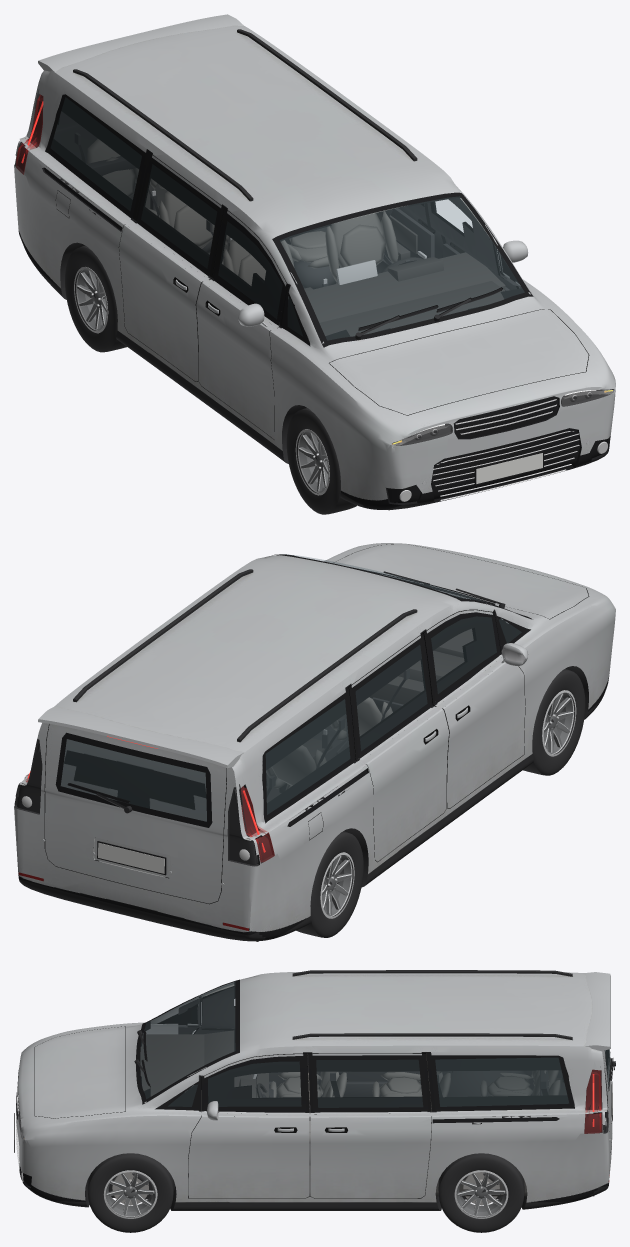
File: family-minivan.glb
3 renders of one model, top to bottom at view 1: azimuth 30°, elevation 25°; view 2: azimuth 150°, elevation 25°; view 3: azimuth 270°, elevation 25°, orthographic. The views are drawn at different scales.
Parts seen in each view (by area): view 1: body, glass_windshield, bonnet_panel, sliding_door_R_panel, interior, door_FR_panel, seats, glass_side_r_R, sliding_door_R_glass_side_m_R, wheel_FR_mesh, door_FR_glass_side_f_R, wheel_RR_mesh (+9 smaller); view 2: body, tailgate_panel, sliding_door_R_panel, door_FR_panel, tailgate_glass_rear, bonnet_panel, glass_side_r_R, sliding_door_R_glass_side_m_R, door_FR_glass_side_f_R, wheel_RR_mesh, wheel_FR_mesh, tailgate_spoiler (+8 smaller); view 3: body, sliding_door_L_panel, door_FL_panel, glass_windshield, glass_side_r_L, bonnet_panel, sliding_door_L_glass_side_m_L, wheel_FL_mesh, wheel_RL_mesh, door_FL_glass_side_f_L, interior, seats (+8 smaller).
Part boxes in pixels (x1,y1,x2,y2): body: (14, 25, 615, 510); glass_windshield: (272, 192, 533, 347); bonnet_panel: (329, 309, 588, 415); sliding_door_R_panel: (119, 153, 224, 381); interior: (87, 156, 505, 336); door_FR_panel: (196, 208, 288, 439); seats: (75, 133, 398, 289); glass_side_r_R: (45, 94, 146, 218); sliding_door_R_glass_side_m_R: (136, 157, 221, 276); wheel_FR_mesh: (286, 408, 356, 514); door_FR_glass_side_f_R: (213, 212, 286, 325); wheel_RR_mesh: (65, 245, 126, 352); body: (14, 543, 615, 941); tailgate_panel: (45, 724, 226, 903); sliding_door_R_panel: (348, 633, 448, 861); door_FR_panel: (423, 610, 525, 808); tailgate_glass_rear: (55, 732, 212, 827); bonnet_panel: (333, 544, 588, 619); glass_side_r_R: (262, 691, 354, 823); sliding_door_R_glass_side_m_R: (352, 637, 431, 758); door_FR_glass_side_f_R: (427, 612, 500, 703); wheel_RR_mesh: (296, 831, 363, 937); wheel_FR_mesh: (523, 669, 585, 775); tailgate_spoiler: (38, 706, 243, 768); body: (16, 972, 612, 1210); sliding_door_L_panel: (308, 1053, 431, 1198); door_FL_panel: (188, 1053, 309, 1198); glass_windshield: (136, 979, 239, 1104); glass_side_r_L: (430, 1055, 574, 1111); bonnet_panel: (35, 1026, 125, 1118); sliding_door_L_glass_side_m_L: (311, 1055, 428, 1112); wheel_FL_mesh: (87, 1153, 173, 1232); wheel_RL_mesh: (438, 1153, 524, 1232); door_FL_glass_side_f_L: (203, 1056, 306, 1112); interior: (140, 1030, 593, 1196); seats: (270, 1054, 562, 1165).
Bounding box in the file's own units: 2.25 × 1.74 × 5.15.
37 materials, 1 textured.
